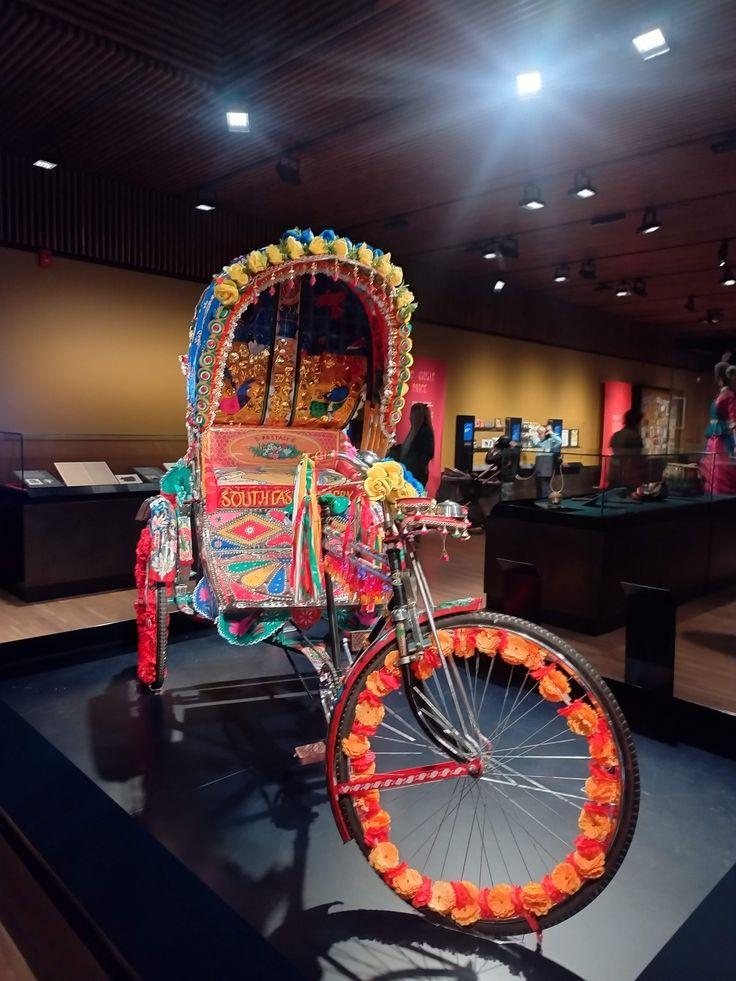Rickshaw: (130, 166, 666, 940)
